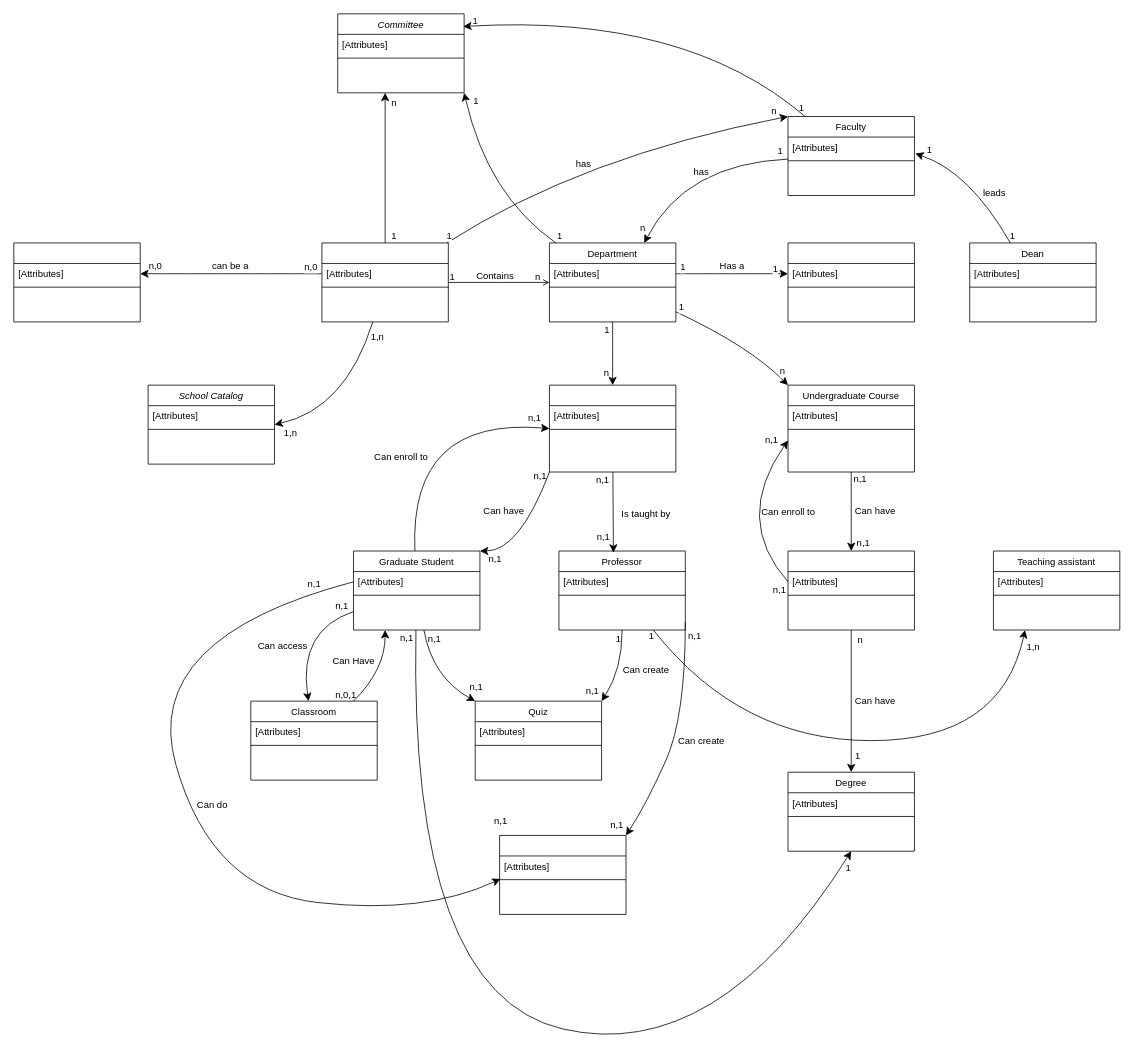
The diagram is 1134 pixels wide and 1048 high, and some of its shapes have lost their labels. Each missing label, with the box of its shape:
Building: (13, 242, 140, 322)
Department Head: (787, 242, 914, 322)
Exam: (499, 835, 626, 914)
Graduate Course: (549, 384, 676, 472)
Undegraduate Student: (787, 550, 914, 630)
University: (321, 242, 448, 322)
